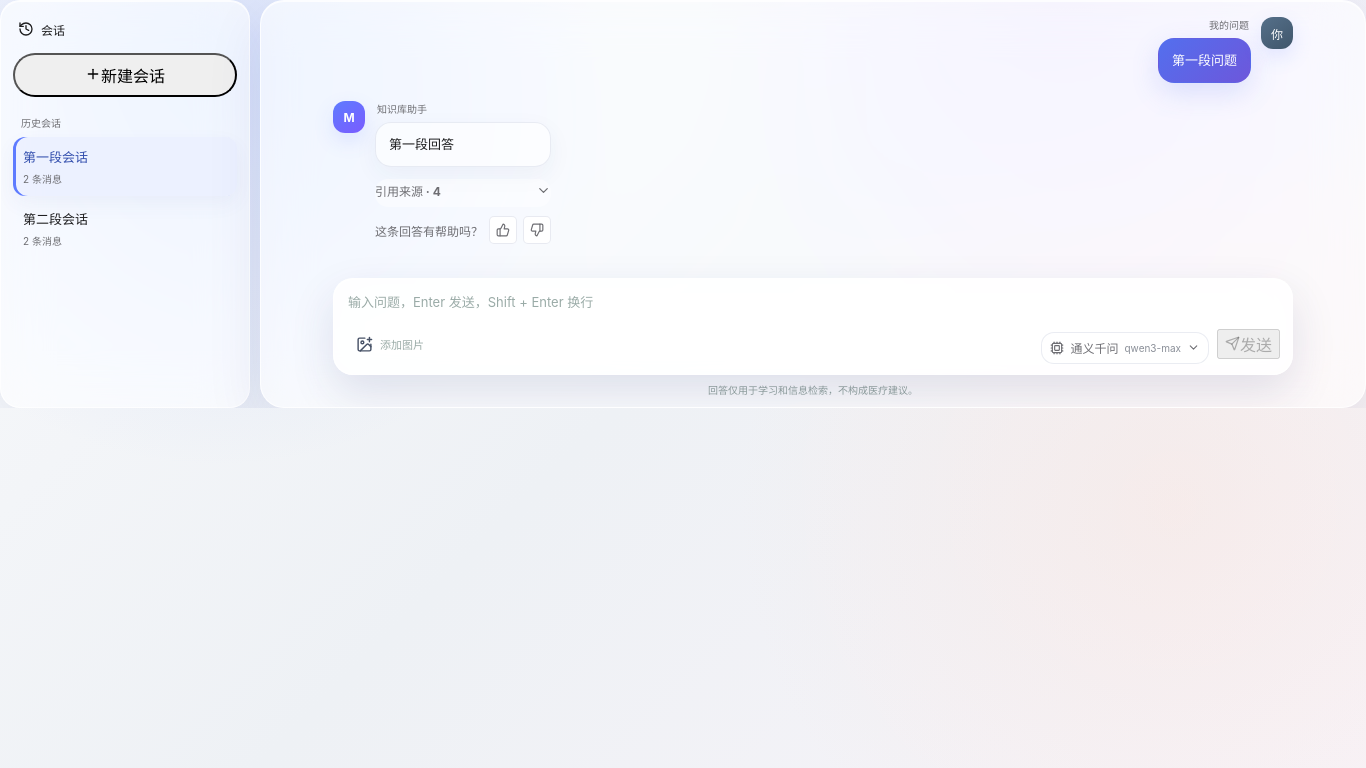
Test case: ChatView 会话交互 › 幂等回放 token 替换已有部分正文而不是重复追加
Type "回放测试" into the text box with placeholder "输入问题，Enter 发送，Shift + Enter 换行".
click(813, 302); type("回放测试")  # box x1=346 y1=289 x2=1280 y2=315
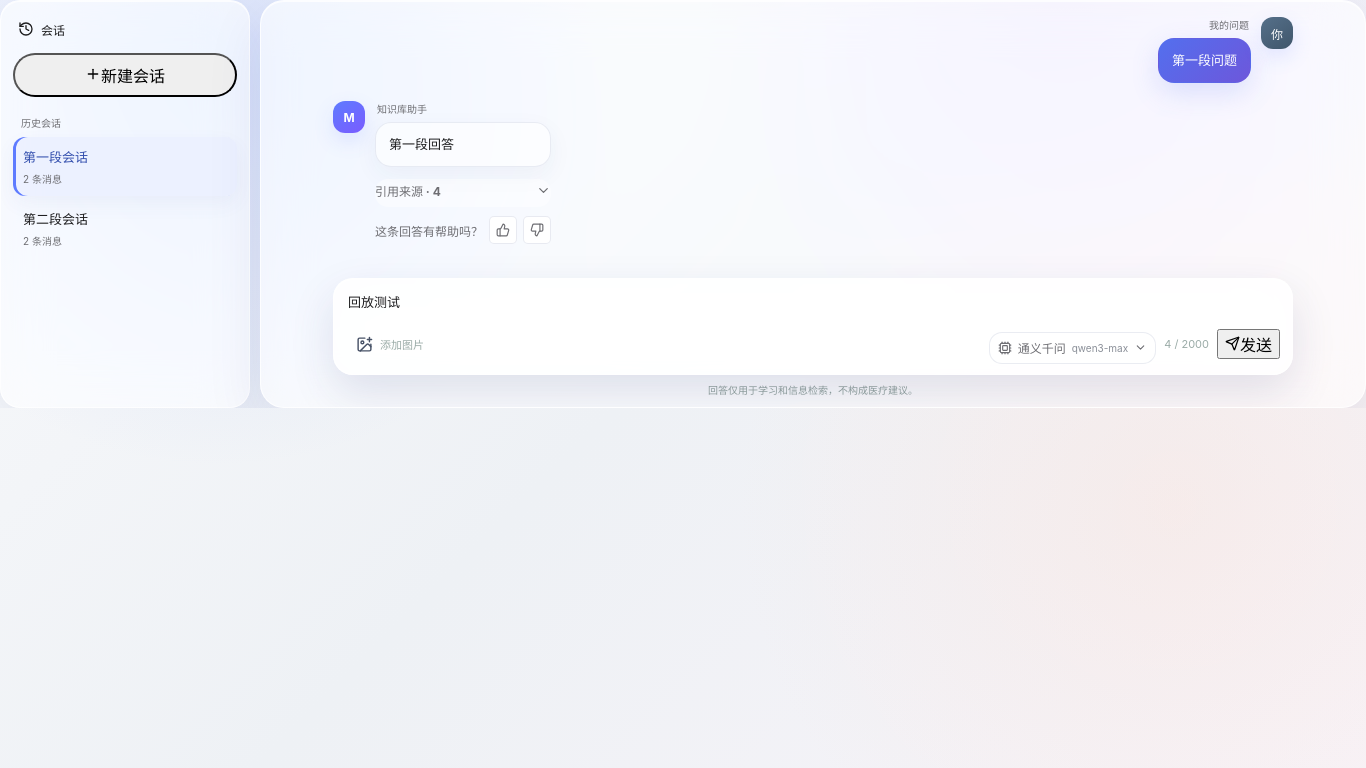
Submit the form with class "composer", box x1=333 y1=278 x2=1293 y2=375
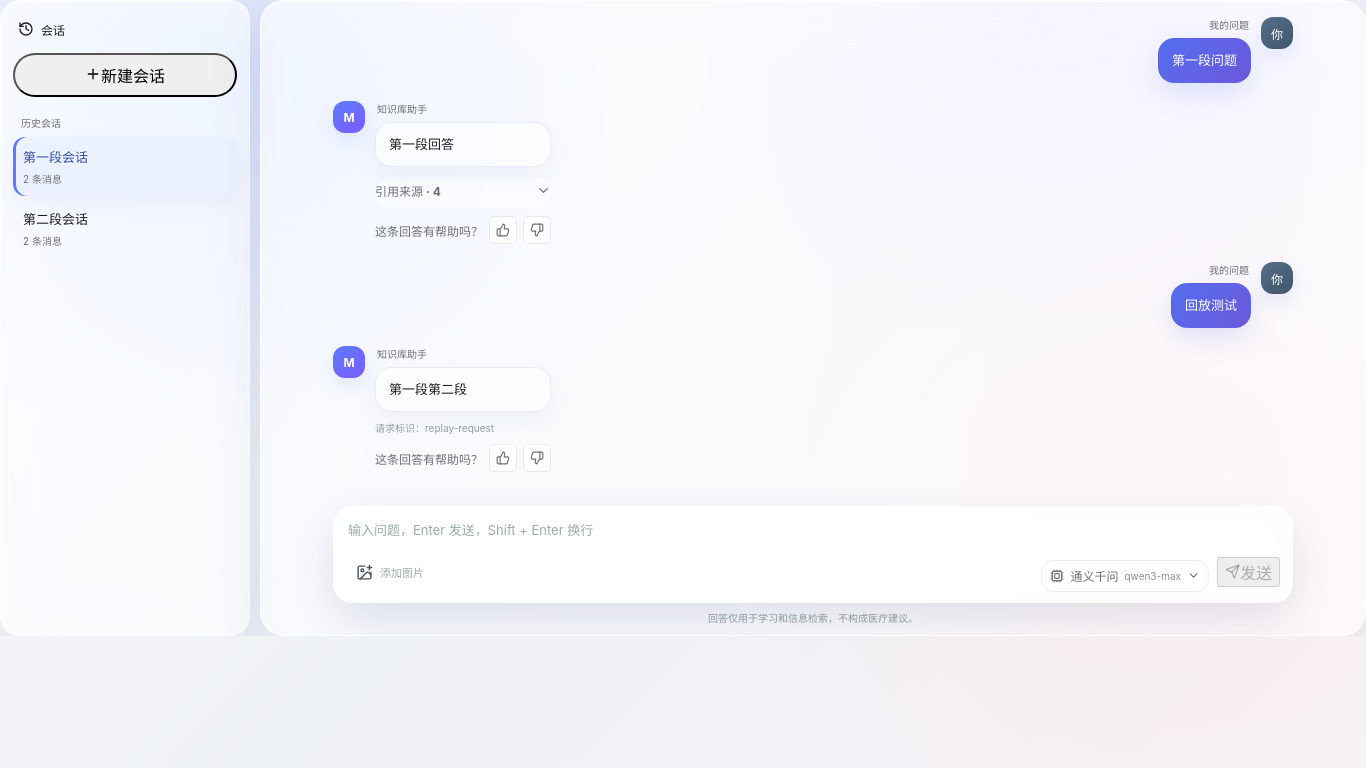
Result: the text "第一段第二段" is shown at x1=389 y1=381 x2=467 y2=397
